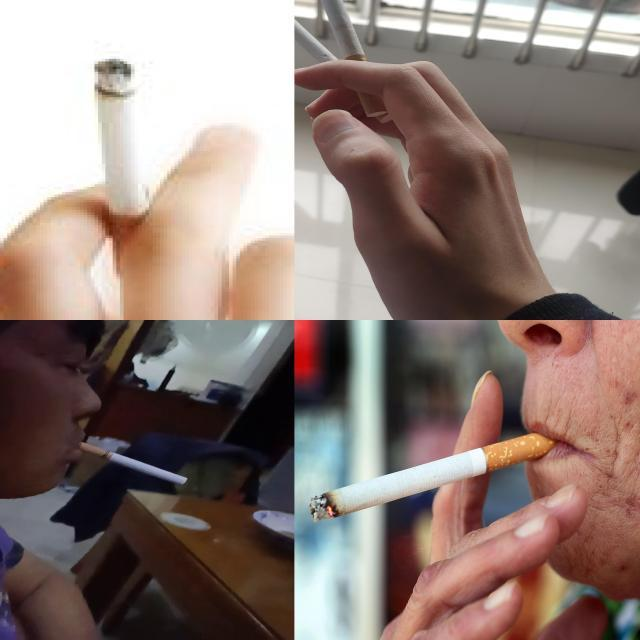smoking: (309, 431, 561, 524), (91, 59, 150, 277), (294, 8, 396, 126), (304, 0, 389, 120), (79, 442, 190, 484)
